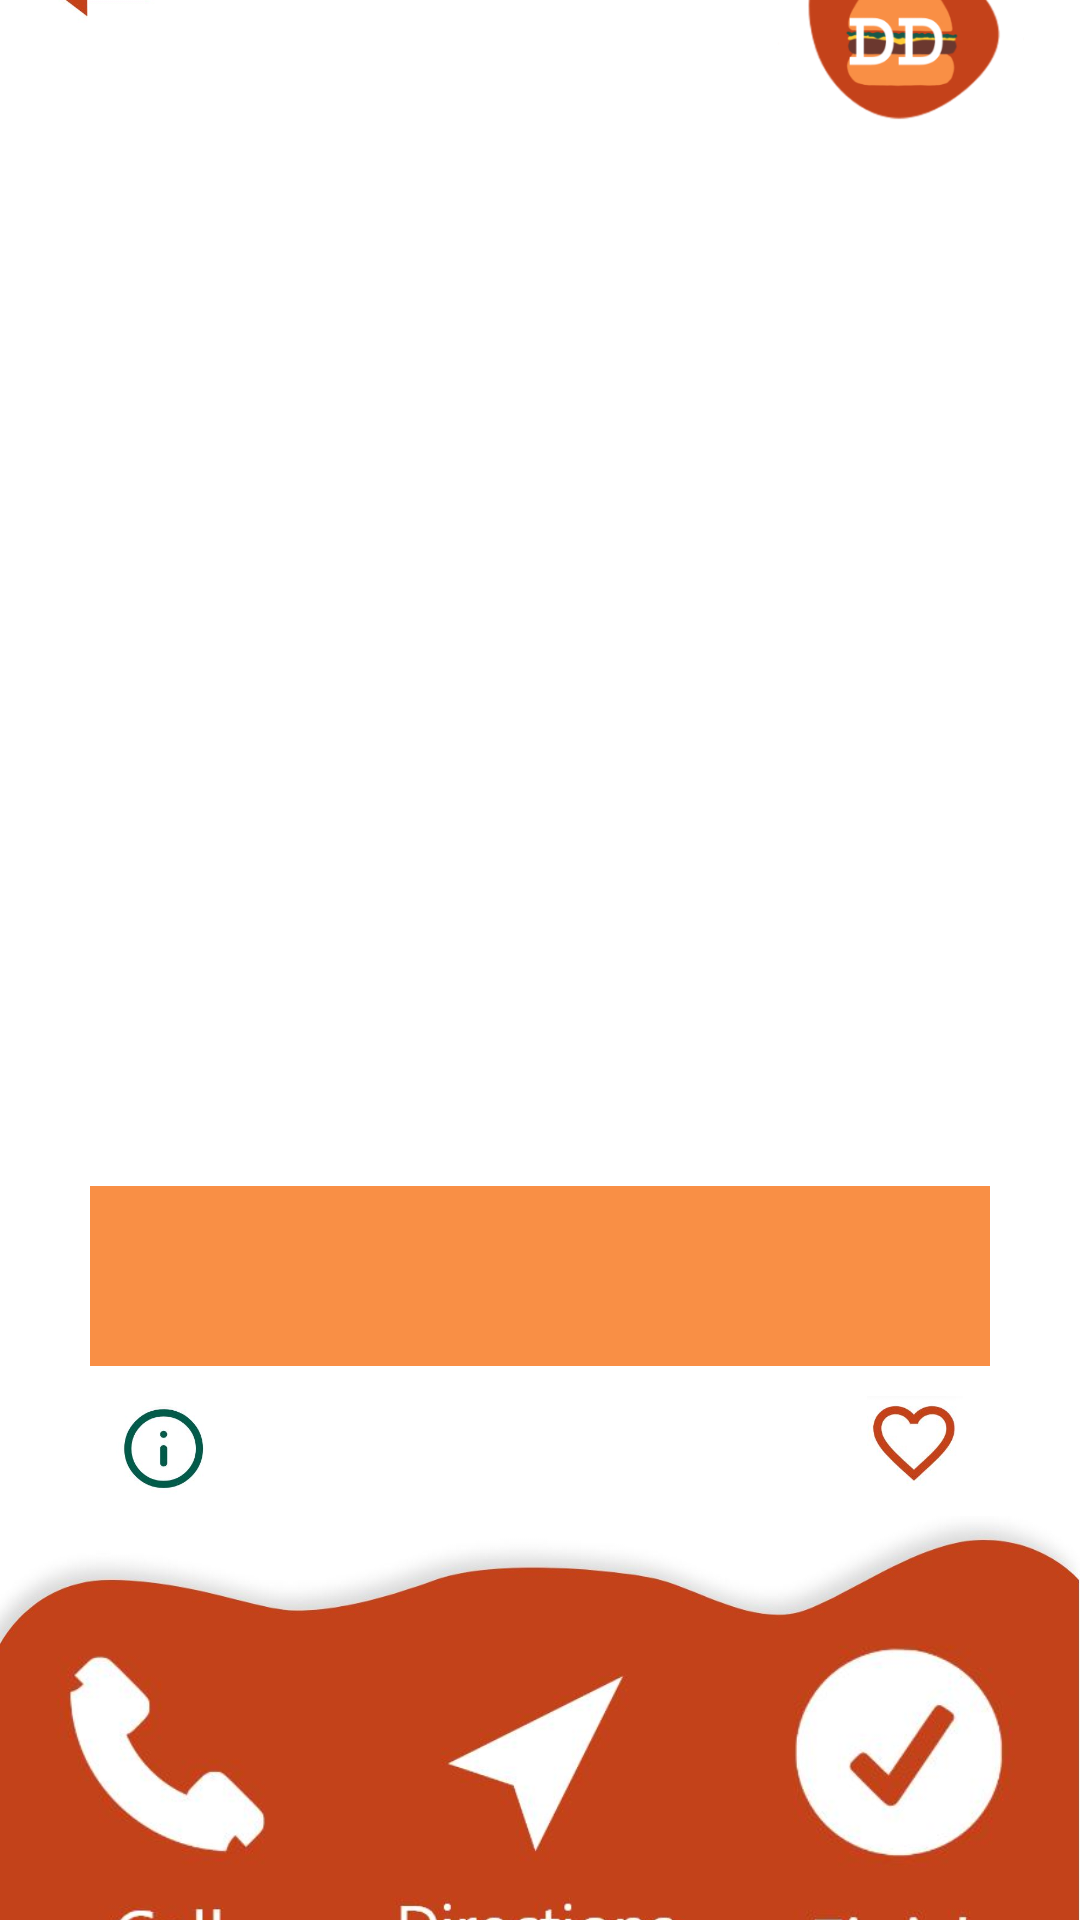

Point at icon controls on the screen. Image size 1080x1920, points as point (x, y).
heart: point (914, 1443)
info: point (164, 1448)
